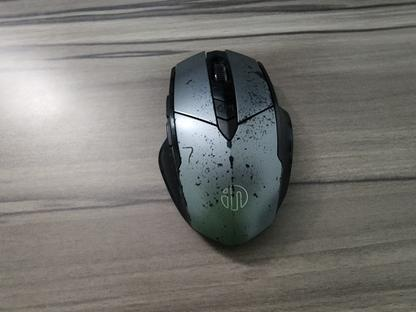mouse: (157, 48, 294, 247)
